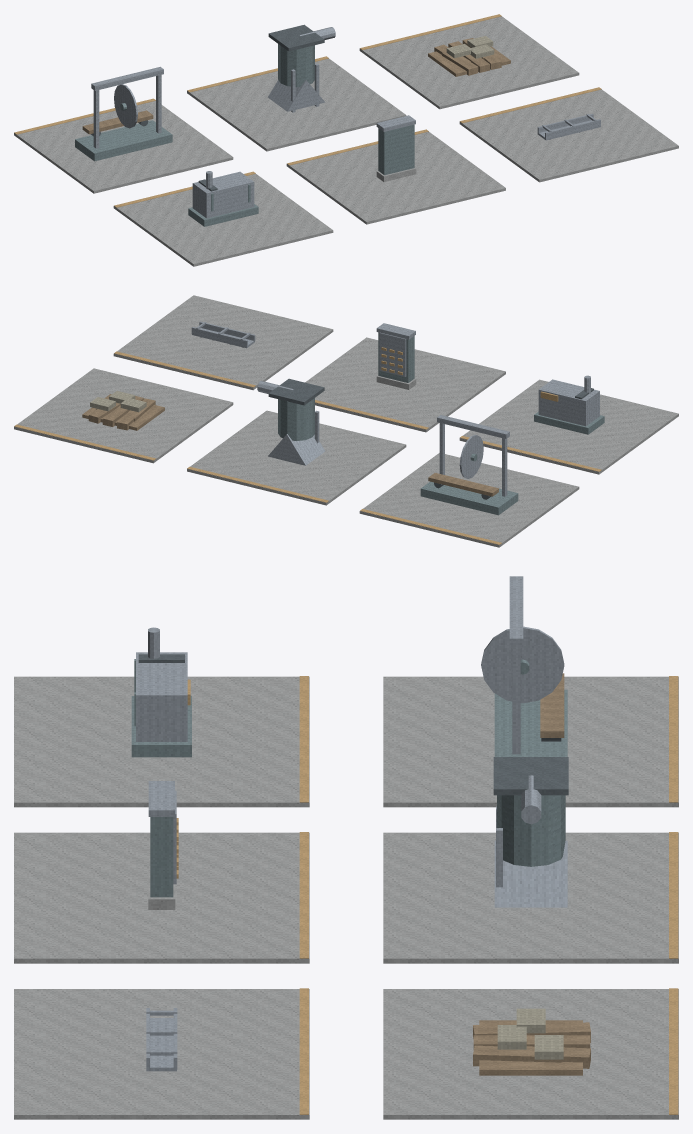
File: level_blockout_kit_wld_01_p02.glb
3 renders of one model, top to bottom at view 1: azimuth 30°, elevation 25°; view 2: azimuth 150°, elevation 25°; view 3: azimuth 270°, elevation 25°, orthographic. The views are drawn at different scales.
Visible parts, largest first — view 1: level_blockout_kit_wld_01_p02; view 2: level_blockout_kit_wld_01_p02; view 3: level_blockout_kit_wld_01_p02.
Part boxes in pixels (x1=…): level_blockout_kit_wld_01_p02: x1=14, y1=14, x2=678, y2=266; level_blockout_kit_wld_01_p02: x1=14, y1=295, x2=678, y2=547; level_blockout_kit_wld_01_p02: x1=14, y1=576, x2=678, y2=1119.
Bounding box in the file's own units: 19.65 × 2.86 × 12.6.
7 materials, 7 textured.
